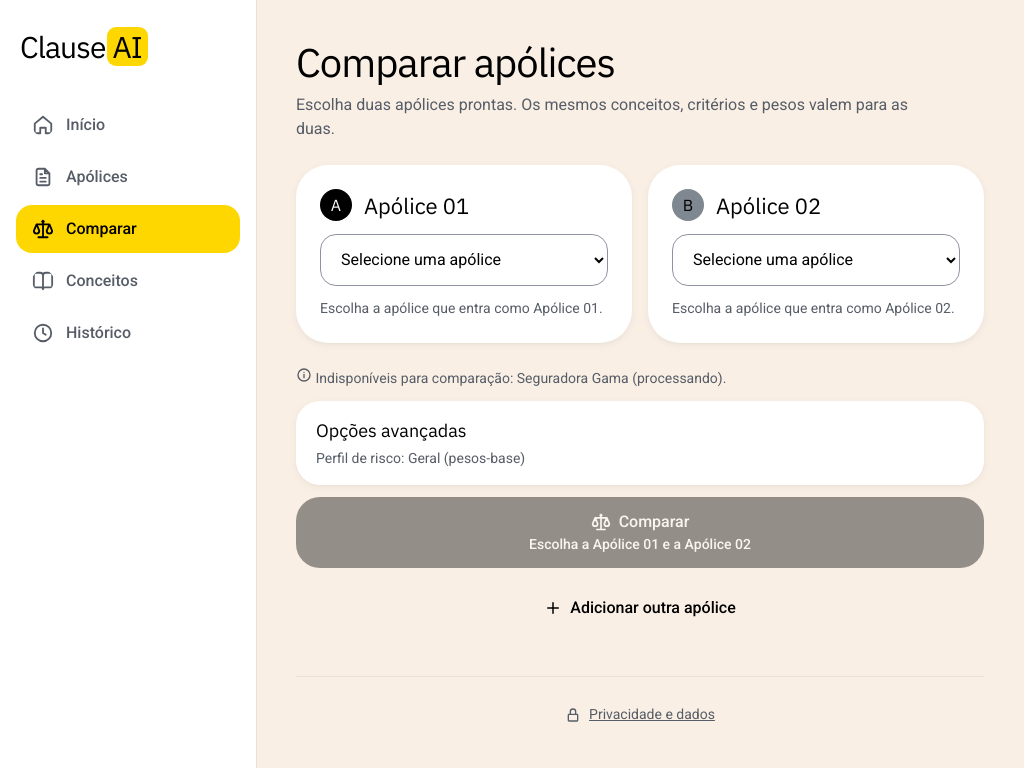
it: Comparar › recolhe o perfil de risco em "Opções avançadas", com Base como padrão
The image size is (1024, 768).
Click the heading "Opções avançadas": [421, 442] box [316, 419, 525, 466]
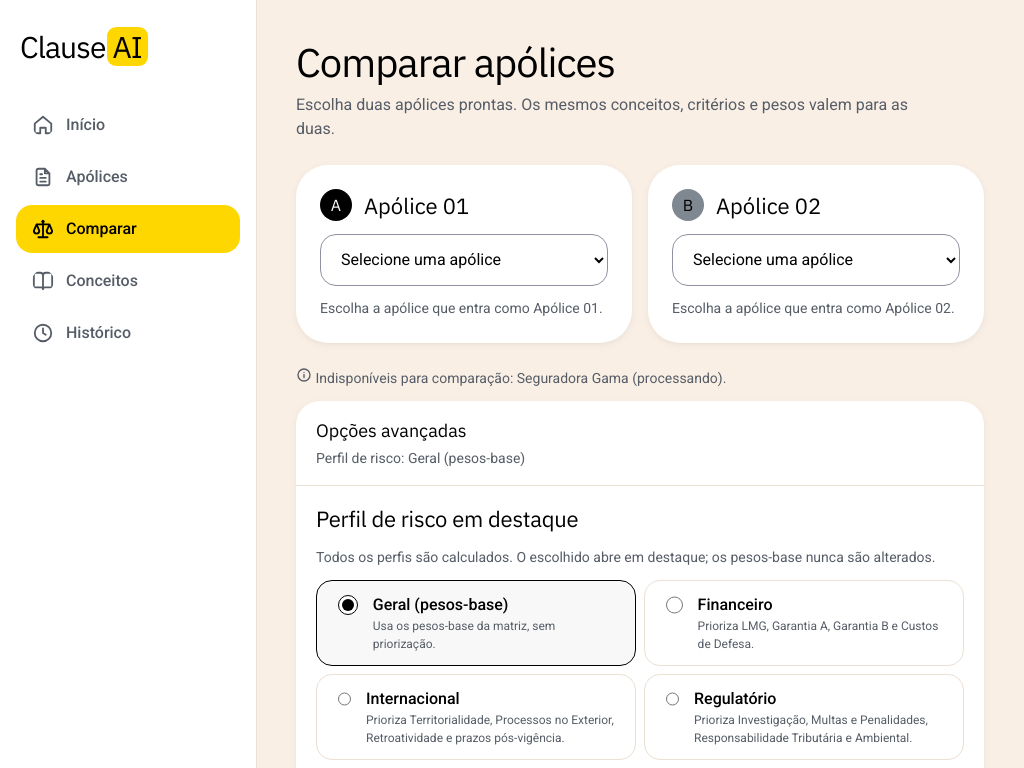
Expected: the radio button labelled "Geral (pesos-base)" is checked, [338, 595, 358, 615]
